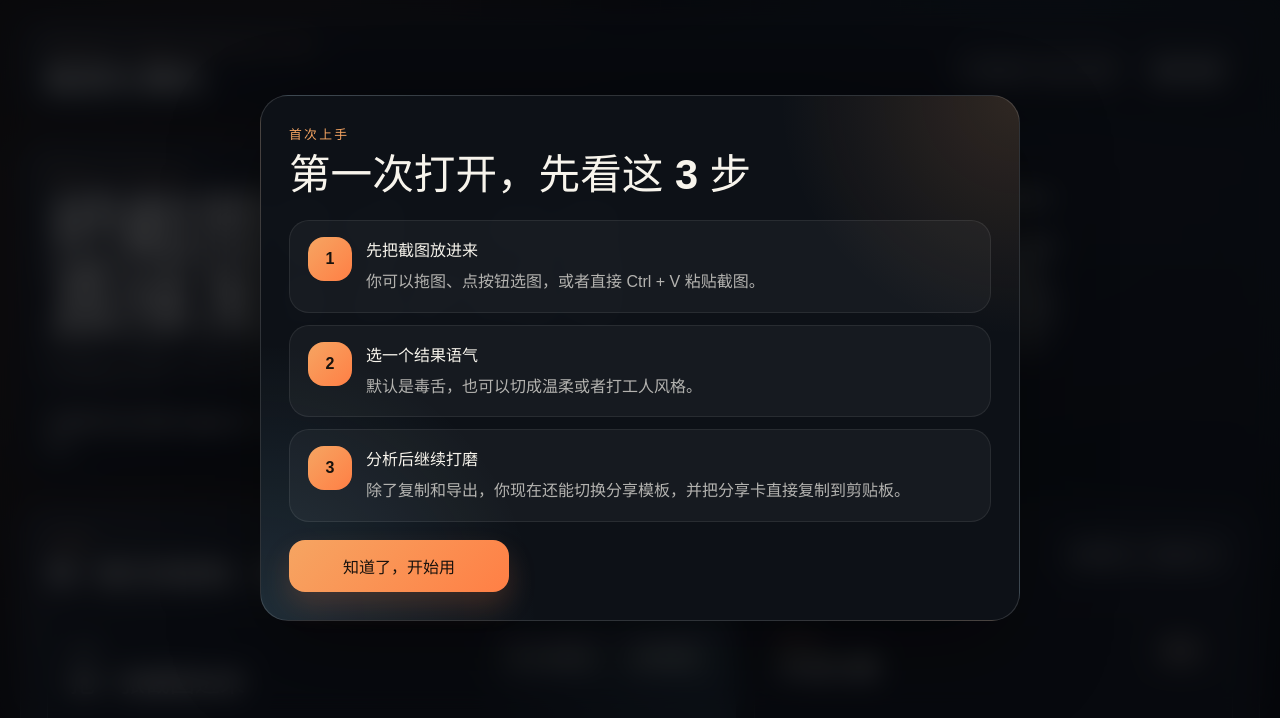
App › keeps archived history out of the active view and allows restoring it
Click the button "知道了，开始用" at x=399, y=566, box [289, 540, 509, 592]
(page scrolled)
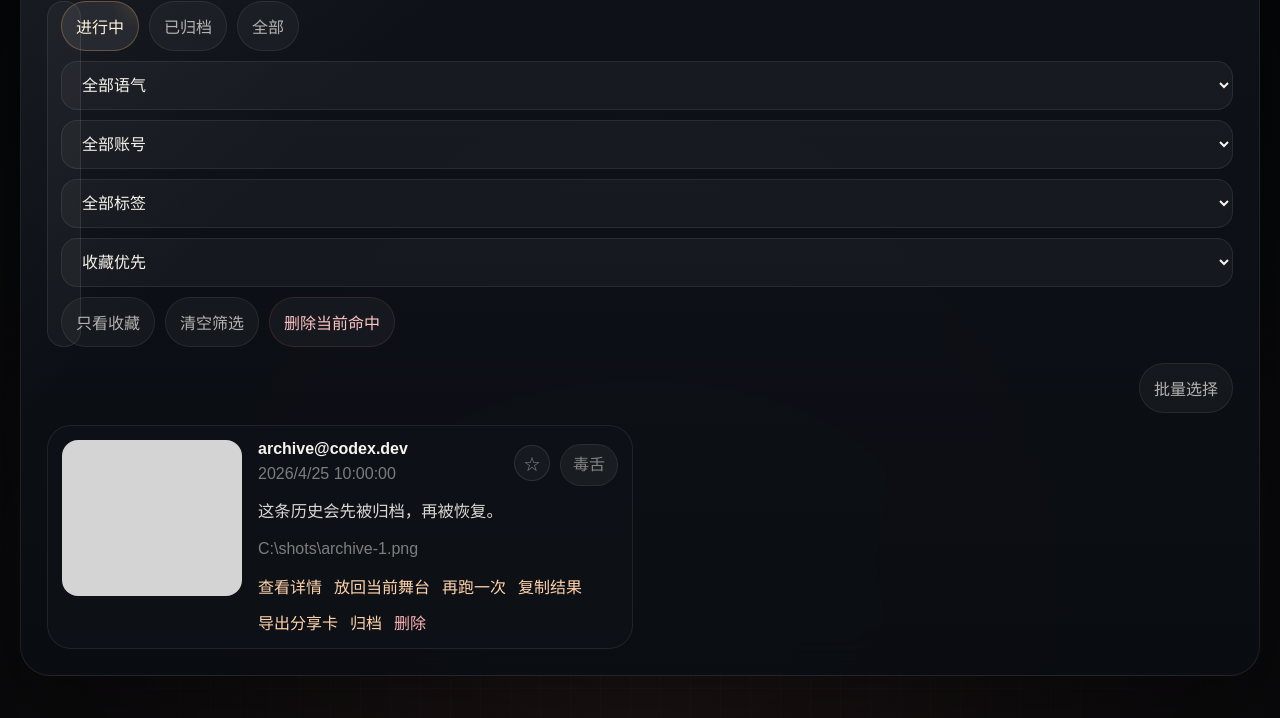
Now the heading "第一次打开" is gone
Click the button "归档" at x=366, y=622, box [350, 610, 382, 634]
(page scrolled)
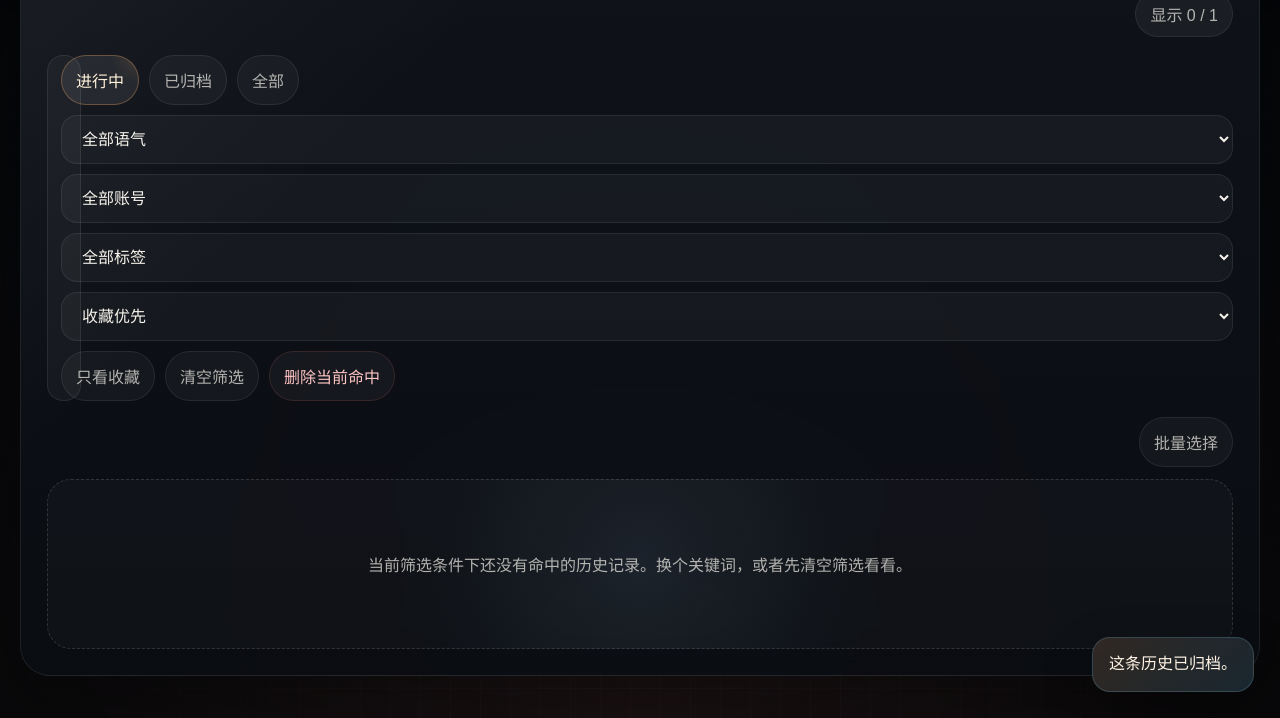
Now the text "这条历史会先被归档，再被恢复。" is gone
Click the button "已归档" at x=188, y=80, box [149, 54, 227, 104]
(page scrolled)
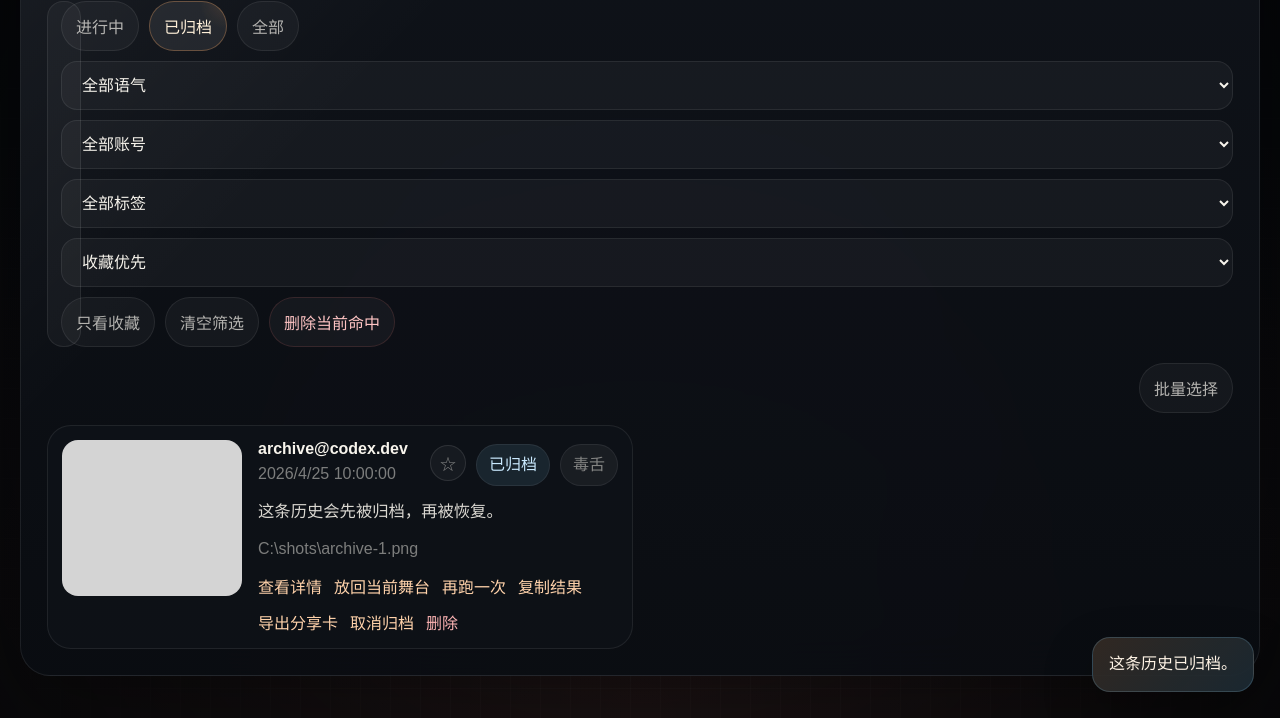
Now the text "这条历史会先被归档，再被恢复。" is shown, box [258, 502, 503, 520]
Click the button "取消归档" at x=382, y=622, box [350, 610, 414, 634]
(page scrolled)
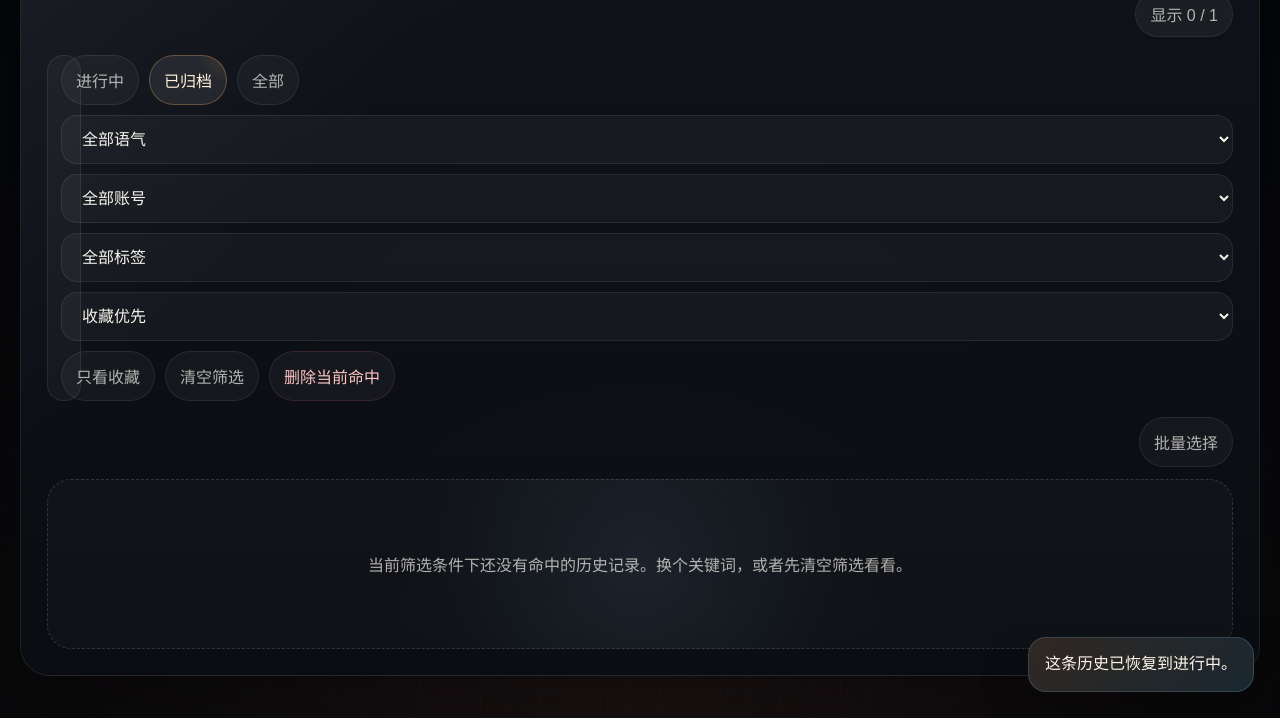
Click the button "进行中" at x=100, y=80, box [61, 54, 139, 104]
(page scrolled)
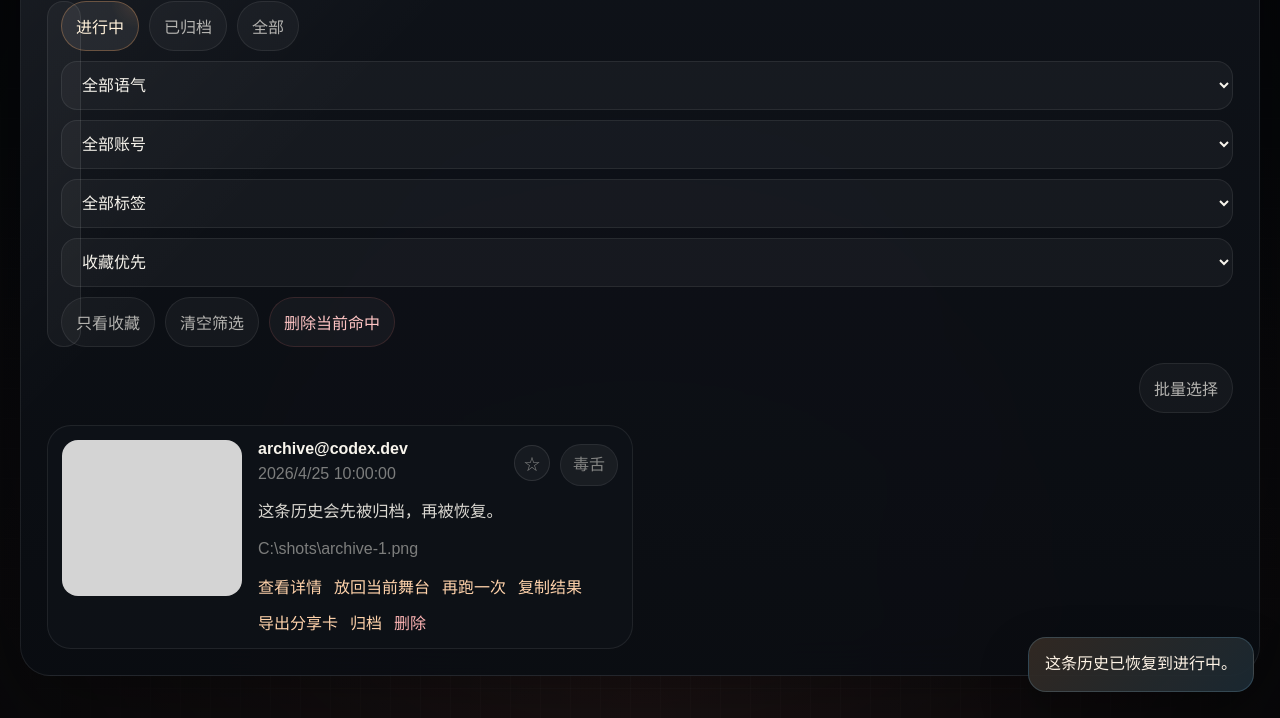
Now the text "这条历史会先被归档，再被恢复。" is shown, box [258, 502, 503, 520]
